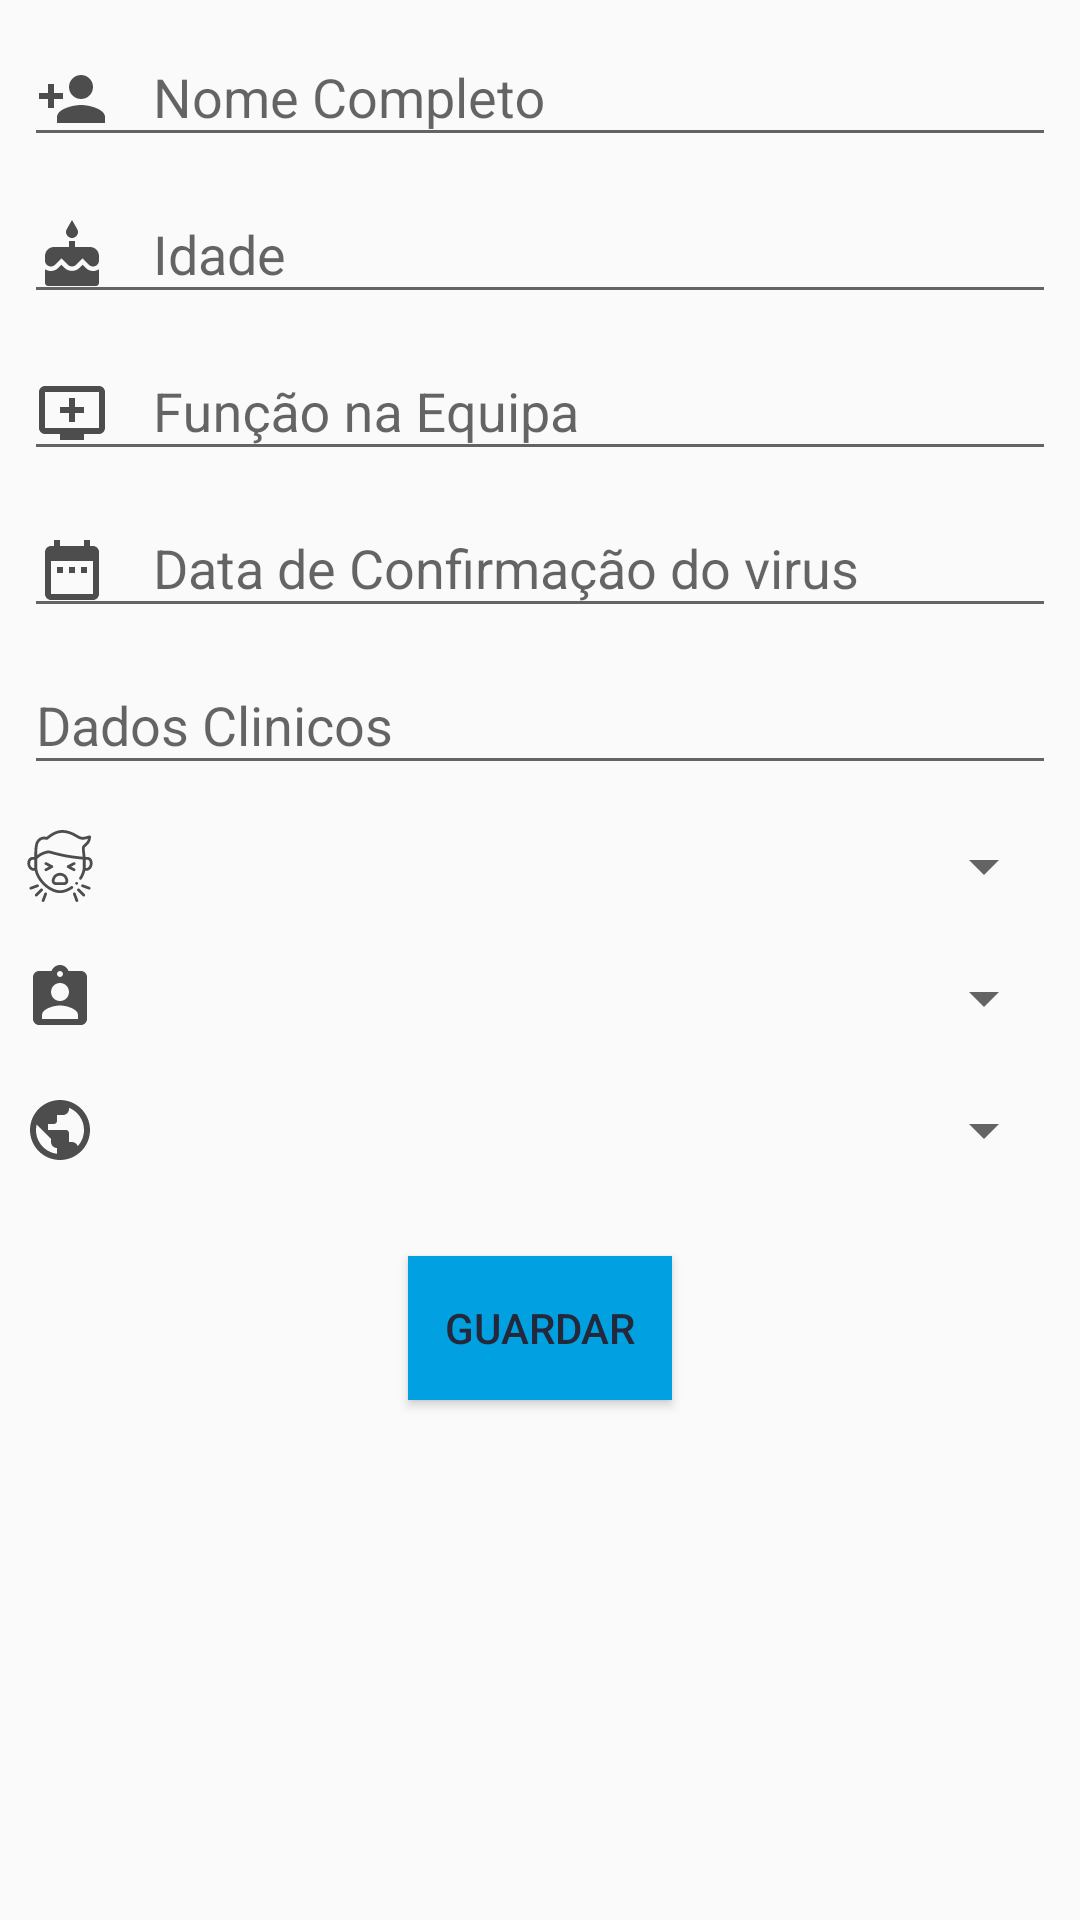

Icon bounding boxes for this 1080×1920 phone screenshot, format bbox=(x1, y1, x2, y2):
cough: bbox=(27, 830, 93, 902)
public: bbox=(30, 1100, 90, 1160)
treinador: bbox=(33, 965, 87, 1025)
